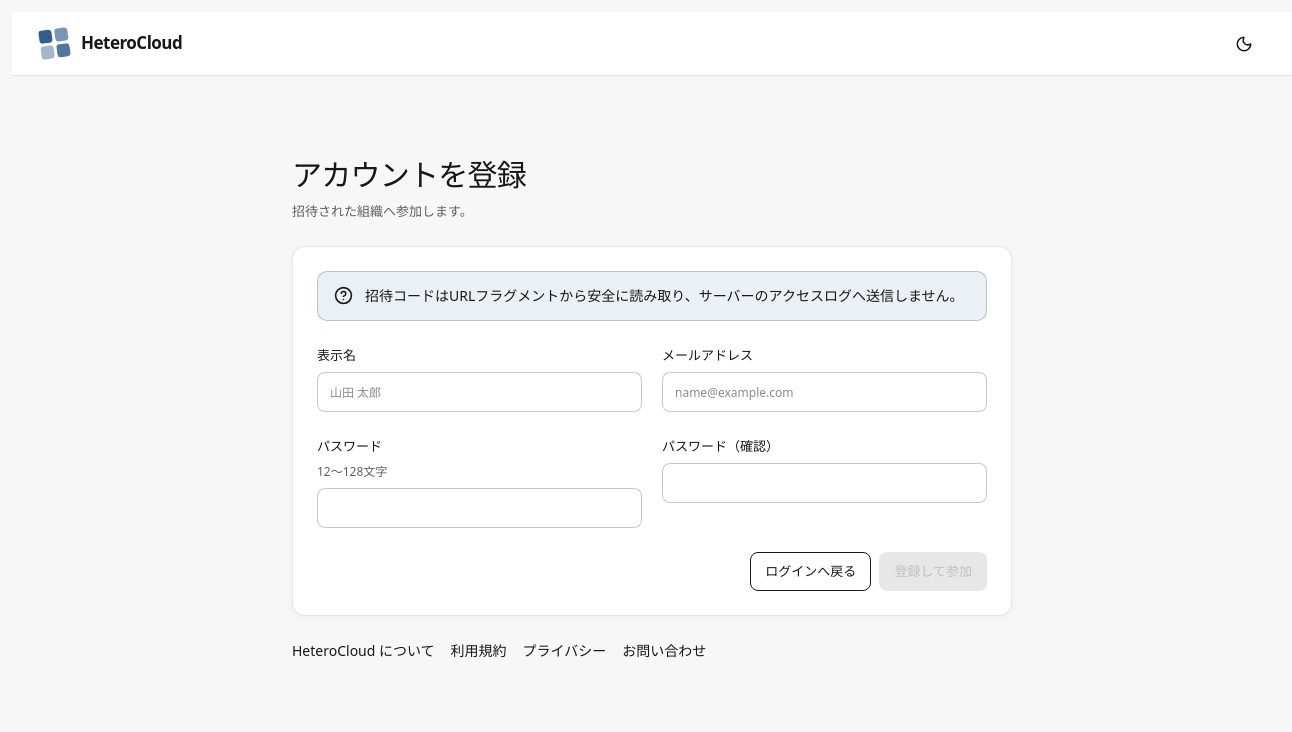
Scenario: 認証画面 › 招待リンクのtokenを変更させず登録APIへ渡す
Type "Invited Member" into the field labelled "表示名". click: (480, 392)
box: [317,372,642,412]
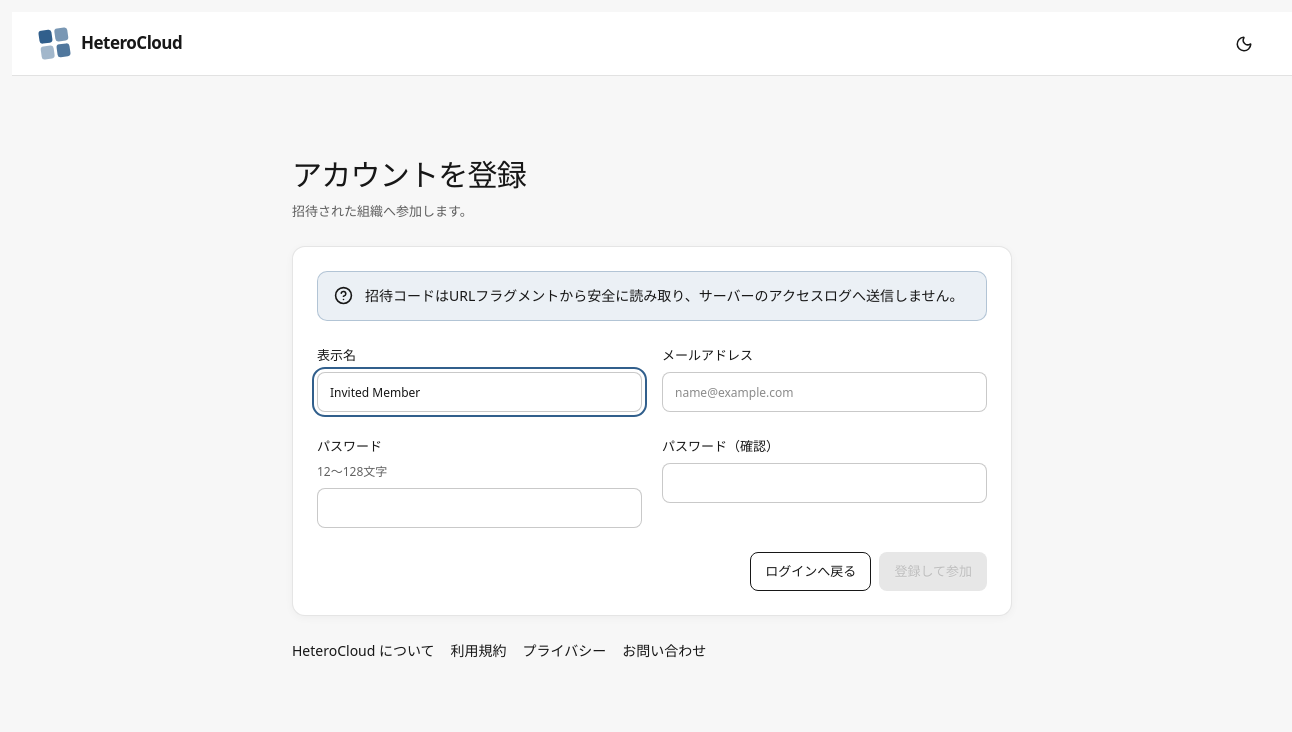
Type "member@example.com" into the field labelled "メールアドレス". click: (824, 392)
box: [662,372,987,412]
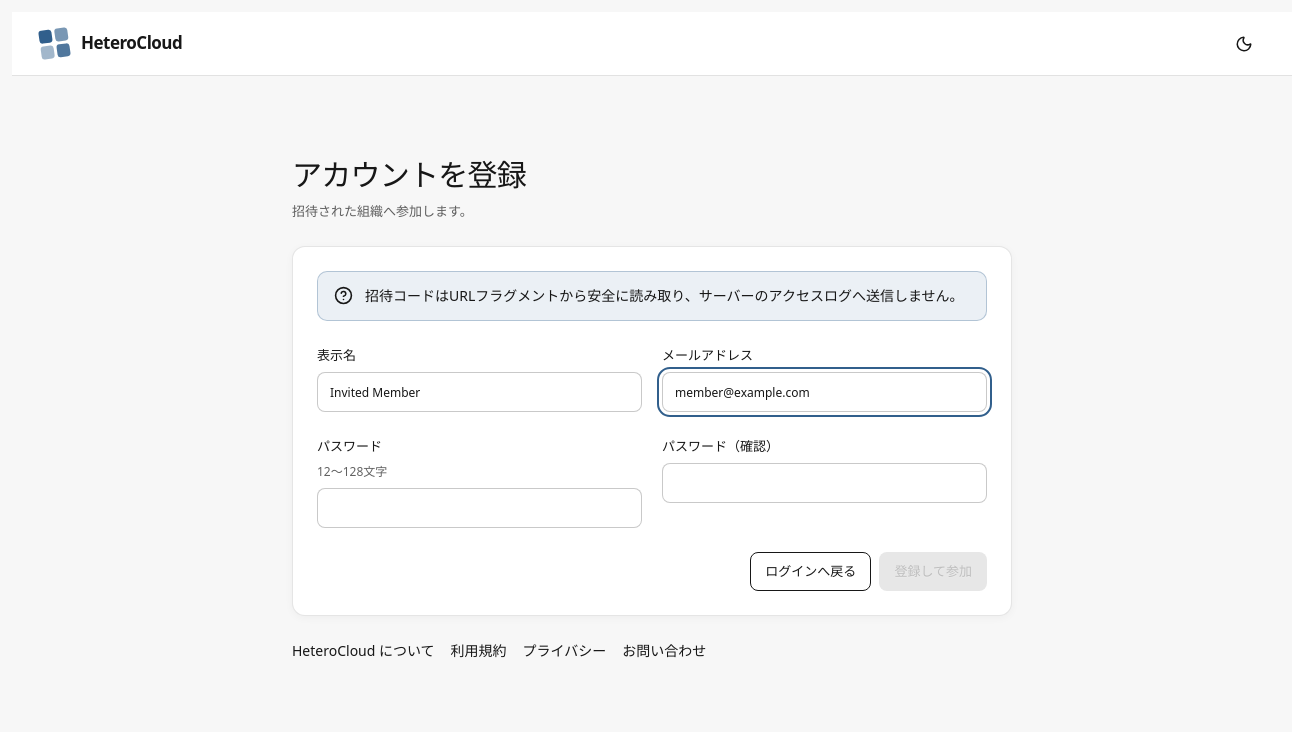
Type "valid-password-123" into the password field labelled "パスワード". click: (480, 508)
box: [317,488,642,528]
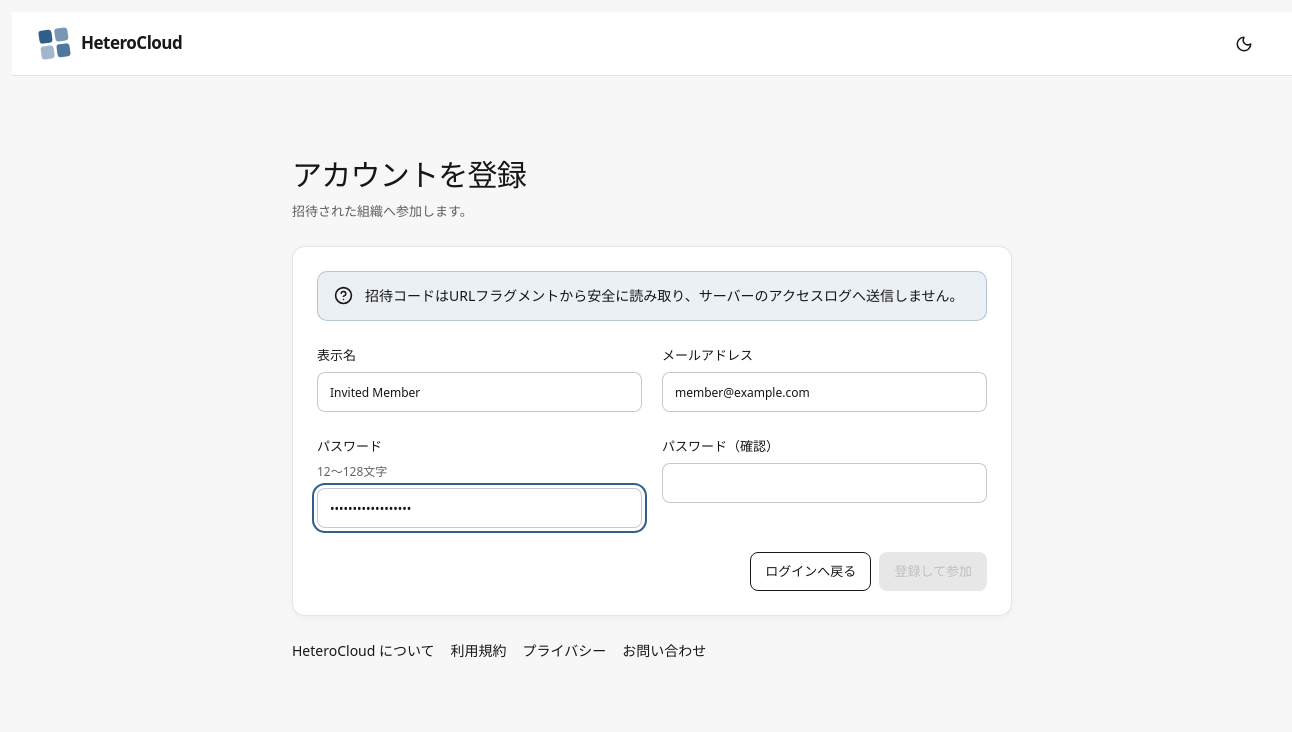
Type "valid-password-123" into the password field labelled "パスワード（確認）". click: (824, 483)
box: [662,463,987,503]
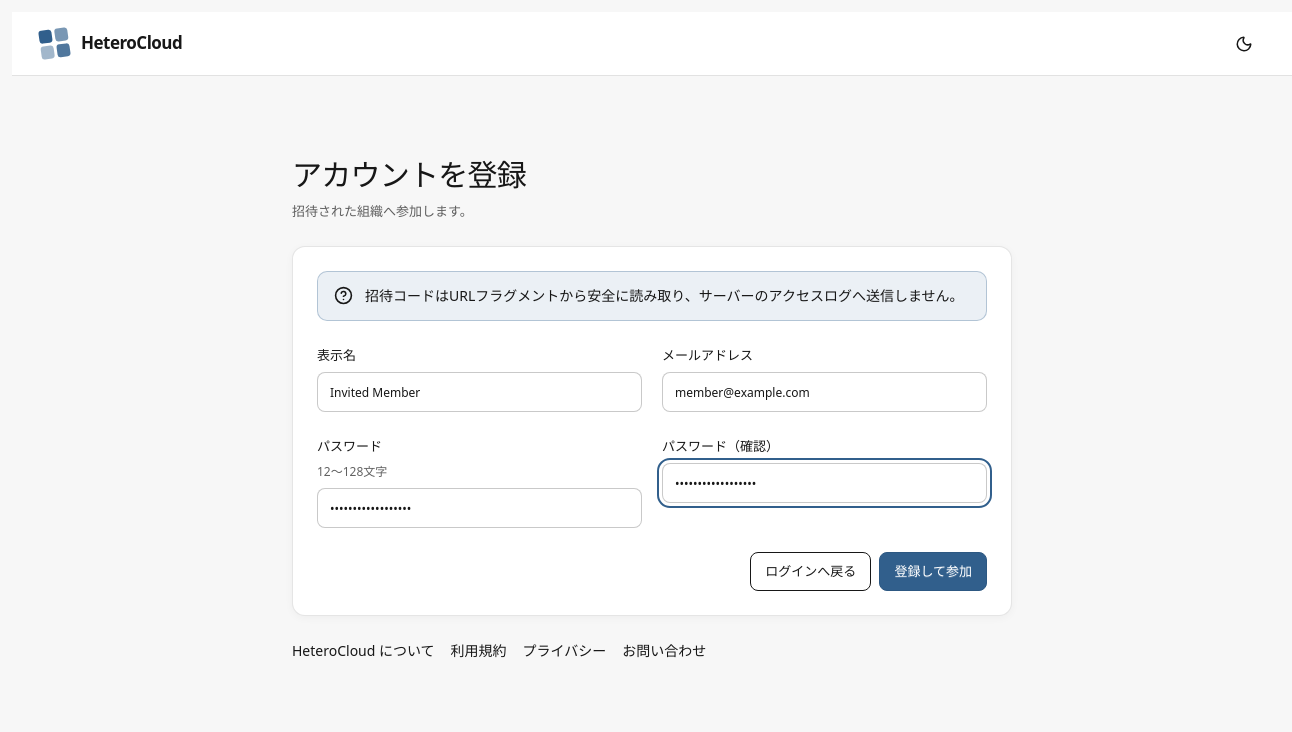
Click the button "登録して参加". click: (933, 571)
box: [879,552,987,590]
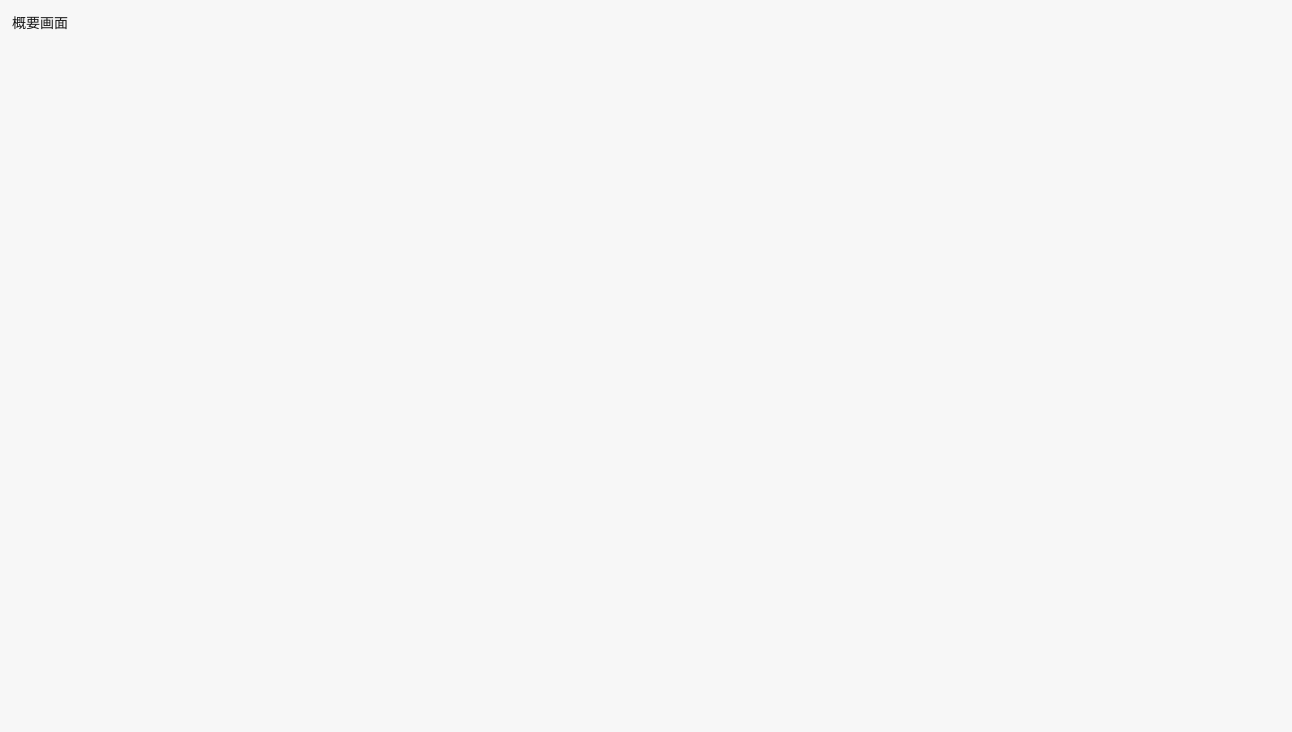
Expected: the text "概要画面" is shown, [12,13,68,32]
